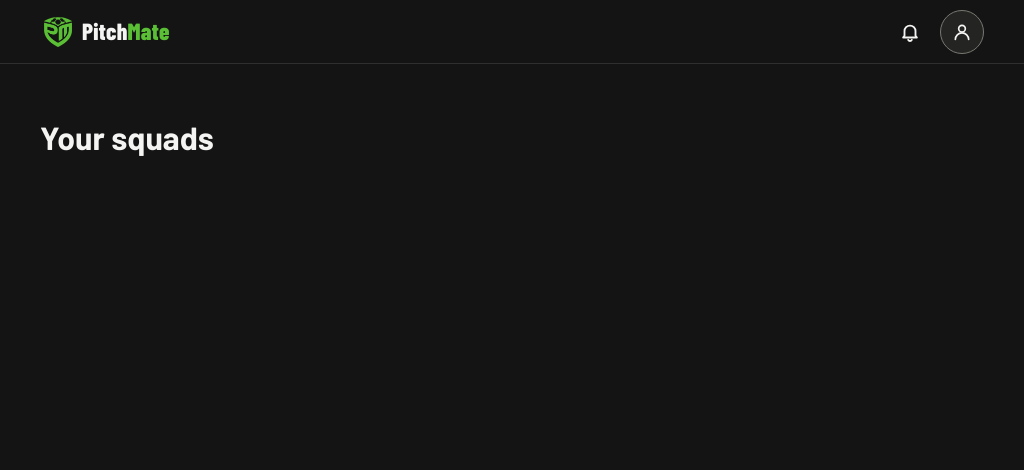
Test case: navigating between Destinations › swaps only the Content_Region, keeping the banner mounted
Click the button named "Account menu" at (962, 32), box [940,10,984,54]
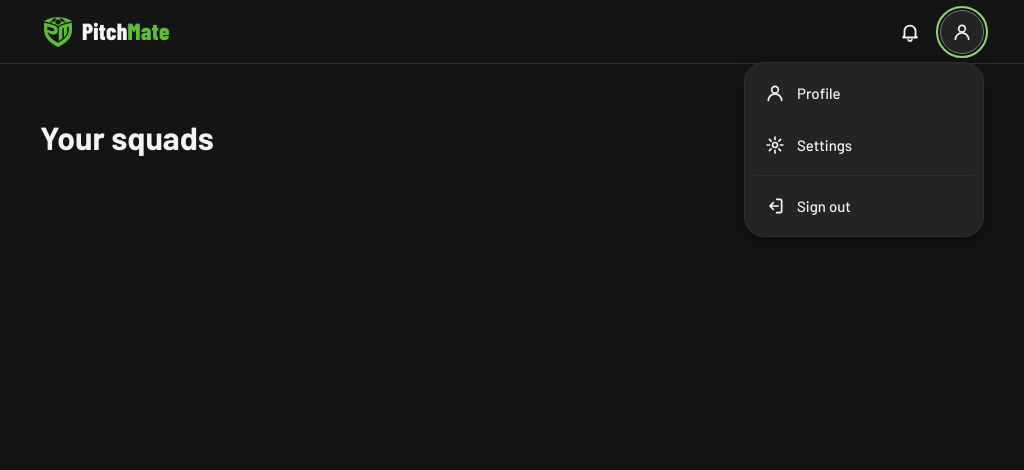
Click the link "Settings" at (809, 144), box [765,134,852,154]
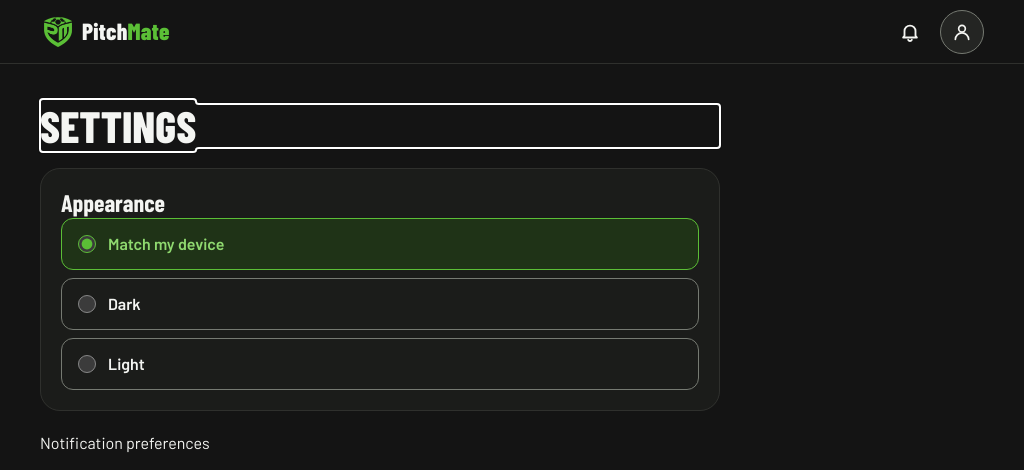
Result: the heading reads "Settings" at [40,99,196,152]
Result: the heading "Your squads" is gone
